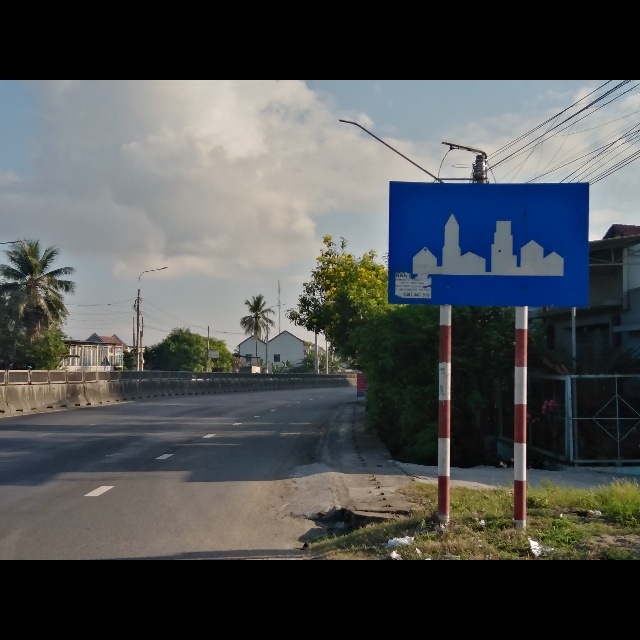Khu đông dân cư: (387, 179, 591, 308)
